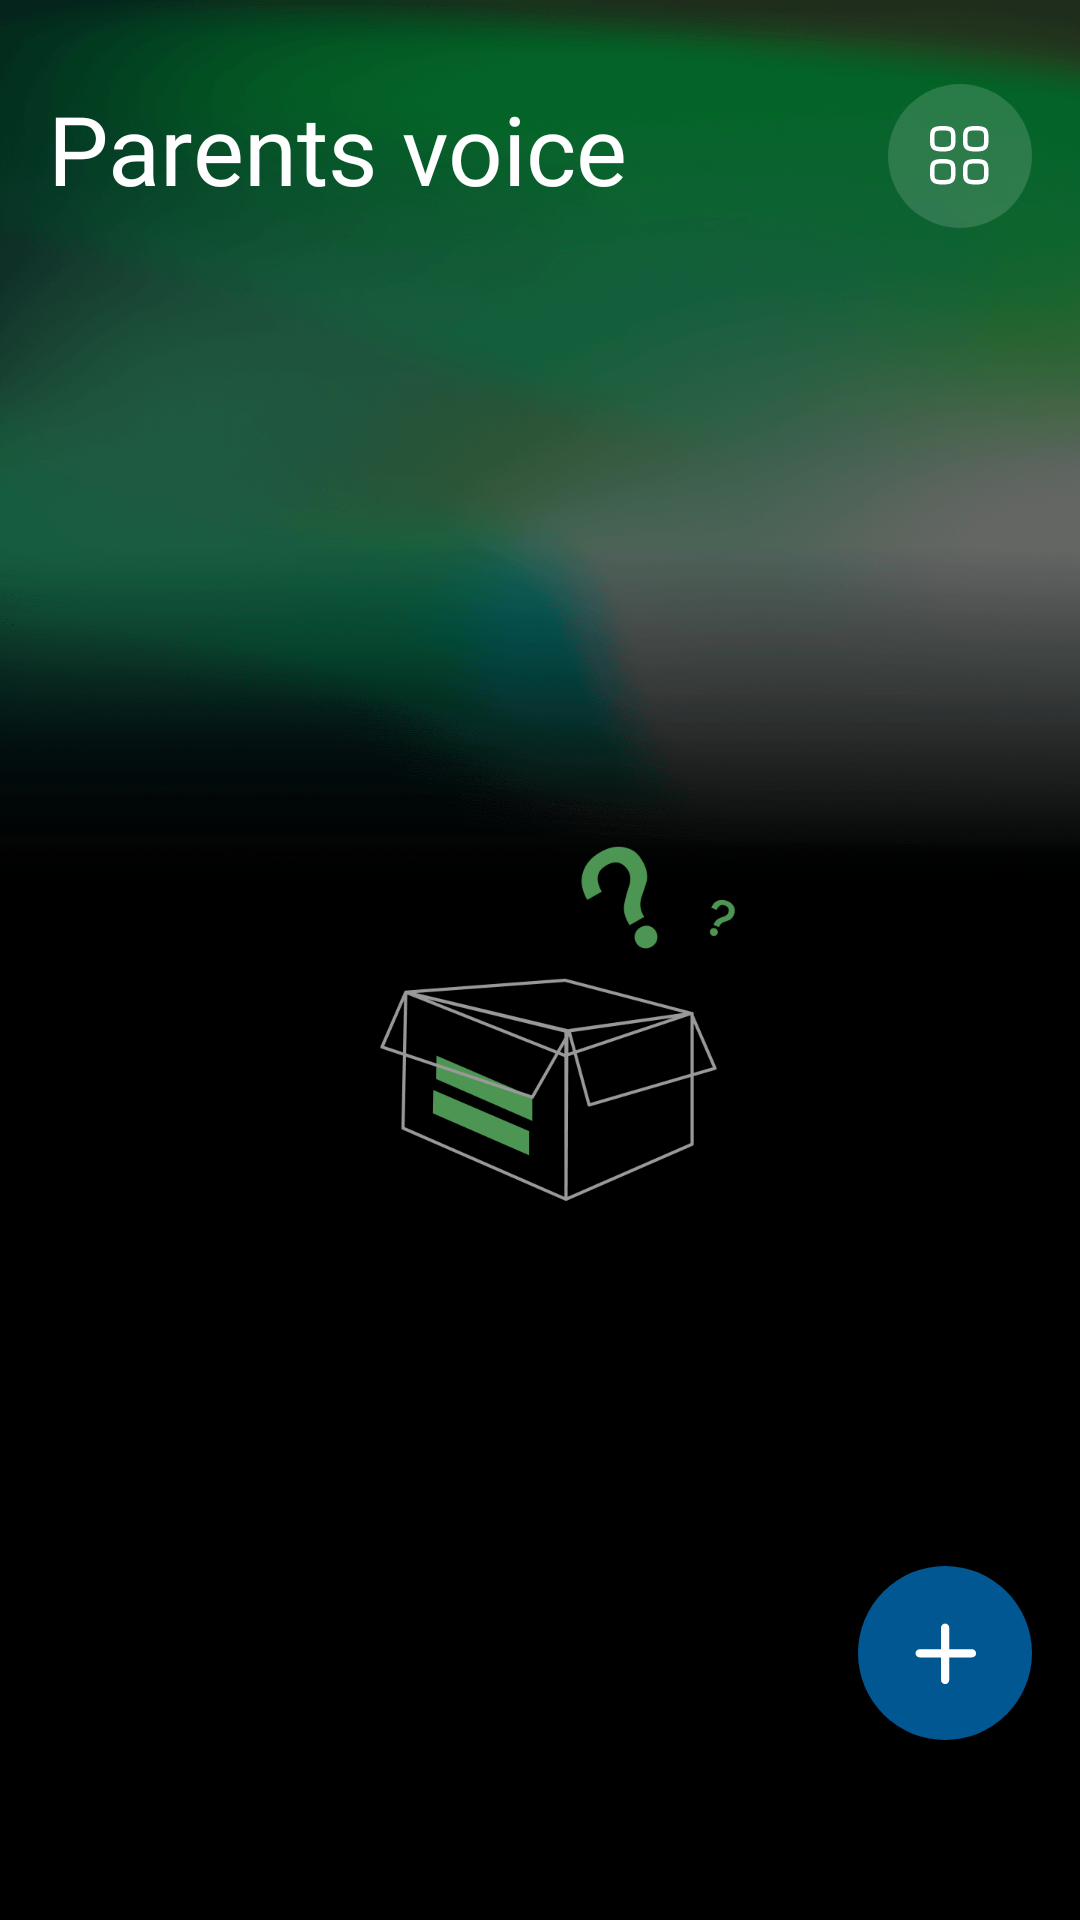

Named icons in this screenshot (1080px×1920px) and their centers, (x,y):
add: (945,1653)
more: (959,155)
no content: (557,1023)
